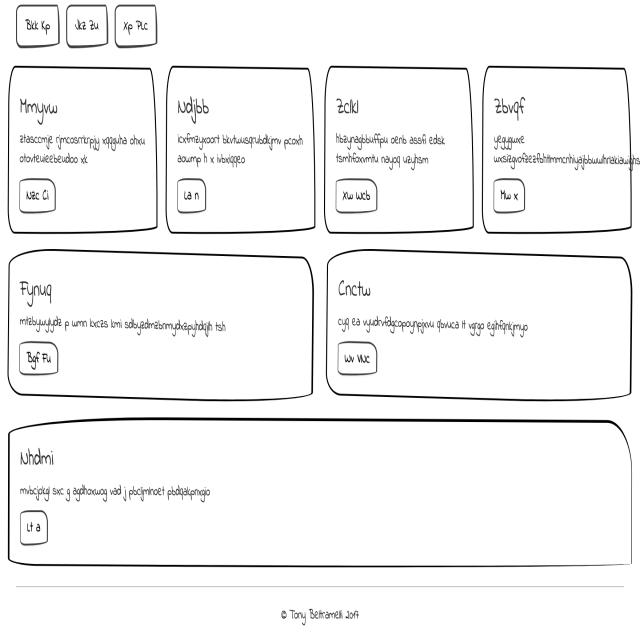Button: (329, 342, 382, 386), (16, 336, 65, 378), (14, 508, 53, 556), (172, 180, 212, 219), (487, 175, 524, 215), (332, 183, 378, 213), (19, 180, 59, 212)
Card: (2, 422, 633, 569), (315, 255, 636, 403), (9, 245, 304, 396), (322, 58, 473, 235), (483, 48, 632, 226), (14, 55, 159, 236), (166, 69, 314, 232)
Footer: (8, 590, 640, 637)
Heading 6: (17, 438, 67, 471), (172, 89, 222, 120), (489, 85, 537, 116), (14, 272, 59, 300), (338, 276, 378, 300), (20, 96, 66, 116), (336, 93, 364, 120)
Navigation Bar: (5, 0, 174, 47)
Paragraph: (492, 127, 640, 170), (8, 476, 227, 504), (20, 127, 148, 173), (10, 309, 237, 334), (175, 130, 308, 172), (332, 309, 543, 334), (334, 127, 447, 168)
